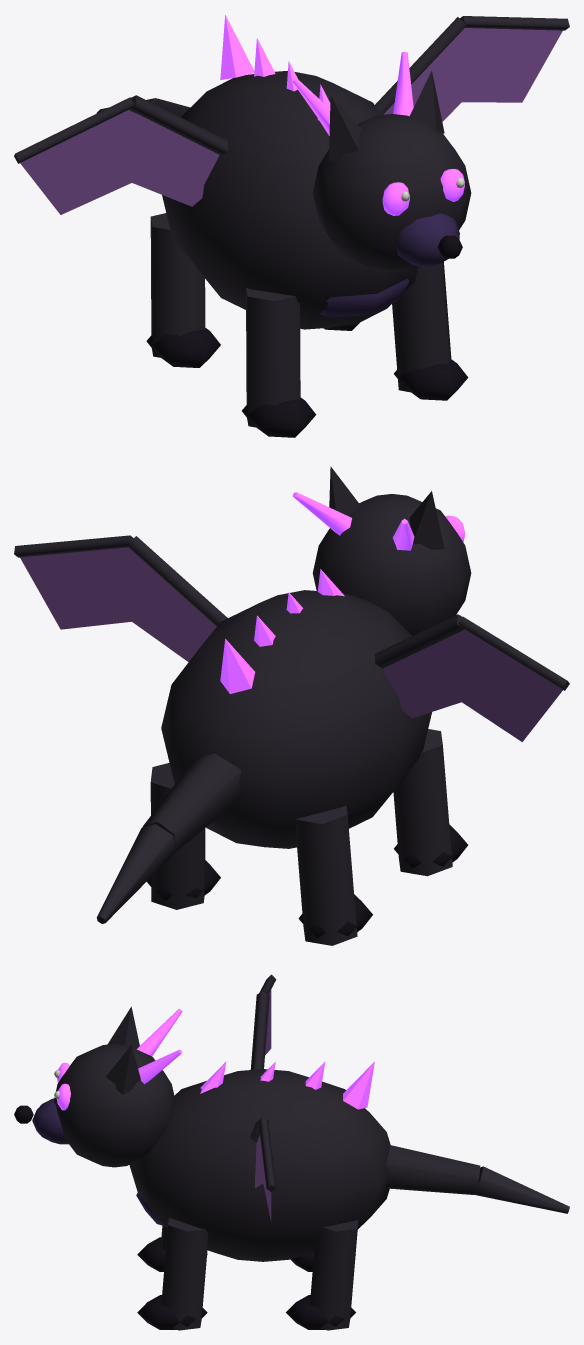
File: monster_shadow_wyrm.glb
3 renders of one model, top to bottom at view 1: azimuth 30°, elevation 25°; view 2: azimuth 150°, elevation 25°; view 3: azimuth 270°, elevation 25°, orthographic. The views are drawn at different scales.
Visible parts, largest first — view 1: body_t0_palette, legl_t0_palette, wingl_t0_palette, wingr_t0_palette, legr_t0_palette, body_t0_shadow_glow; view 2: body_t0_palette, wingr_t0_palette, legl_t0_palette, wingl_t0_palette, tail_t0_palette, legr_t0_palette, body_t0_shadow_glow; view 3: body_t0_palette, legr_t0_palette, tail_t0_palette, body_t0_shadow_glow, wingl_t0_palette, wingr_t0_palette, legl_t0_palette.
Boxes of the visible parts, <box> form: body_t0_palette: <box>162,70,471,329</box>; legl_t0_palette: <box>146,213,316,437</box>; wingl_t0_palette: <box>14,95,228,214</box>; wingr_t0_palette: <box>374,16,569,121</box>; legr_t0_palette: <box>324,261,468,400</box>; body_t0_shadow_glow: <box>220,15,464,215</box>; body_t0_palette: <box>161,466,471,848</box>; wingr_t0_palette: <box>14,535,227,661</box>; legl_t0_palette: <box>295,729,467,945</box>; wingl_t0_palette: <box>374,614,569,742</box>; tail_t0_palette: <box>96,753,241,923</box>; legr_t0_palette: <box>146,763,220,909</box>; body_t0_shadow_glow: <box>220,492,464,693</box>; body_t0_palette: <box>14,1006,390,1261</box>; legr_t0_palette: <box>137,1217,358,1330</box>; tail_t0_palette: <box>385,1145,569,1213</box>; body_t0_shadow_glow: <box>57,1008,374,1110</box>; wingl_t0_palette: <box>250,974,276,1069</box>; wingr_t0_palette: <box>250,1114,276,1222</box>; legl_t0_palette: <box>137,1225,355,1271</box>.
Bounding box in the file's own units: 0.6033 × 0.3648 × 0.6737.
